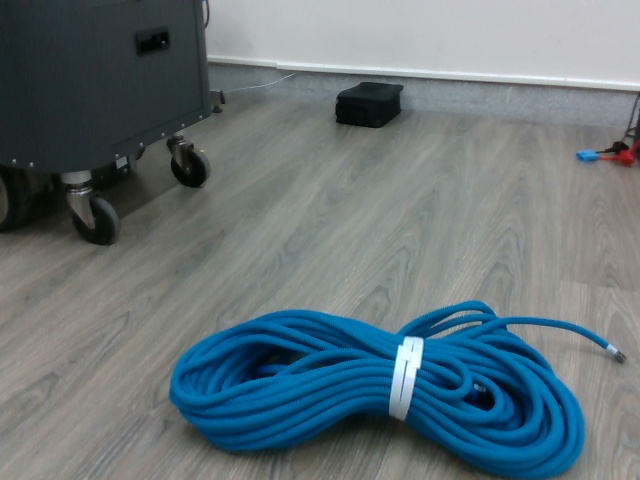rope: (164, 295, 633, 480)
